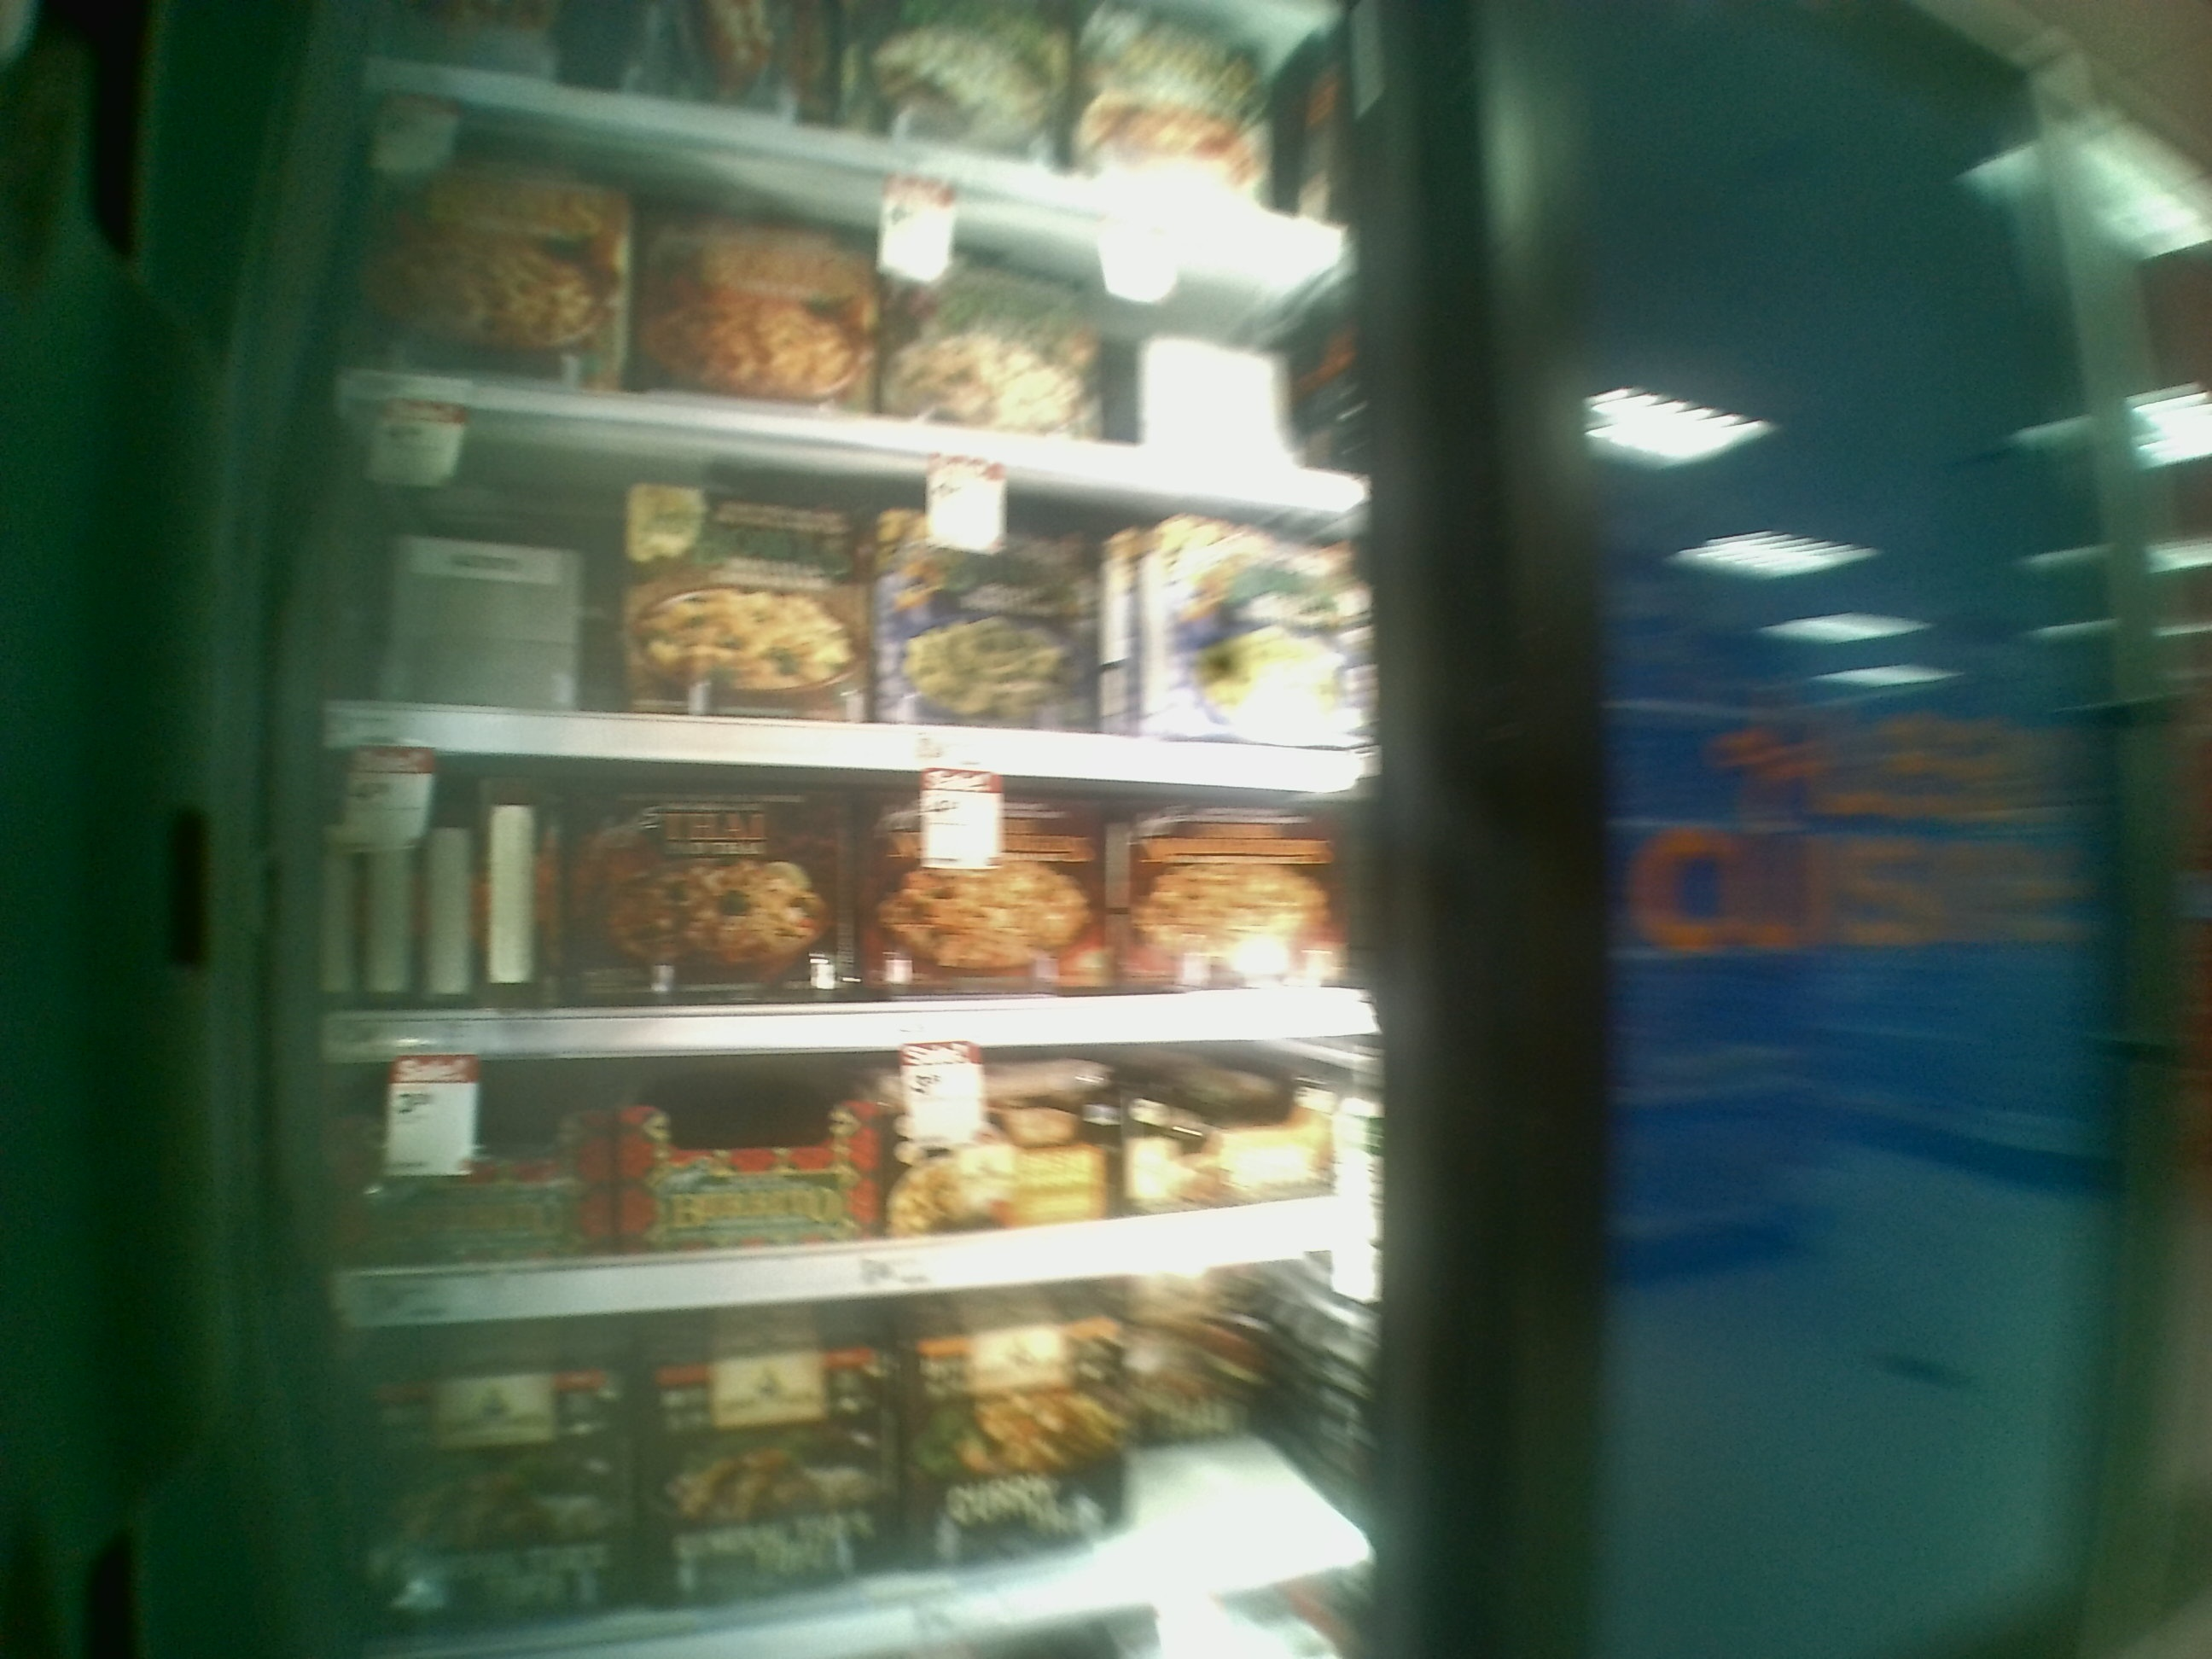frozen-food-shelf: (291, 401, 1374, 798), (284, 798, 1400, 1073), (284, 1073, 1418, 1342)
